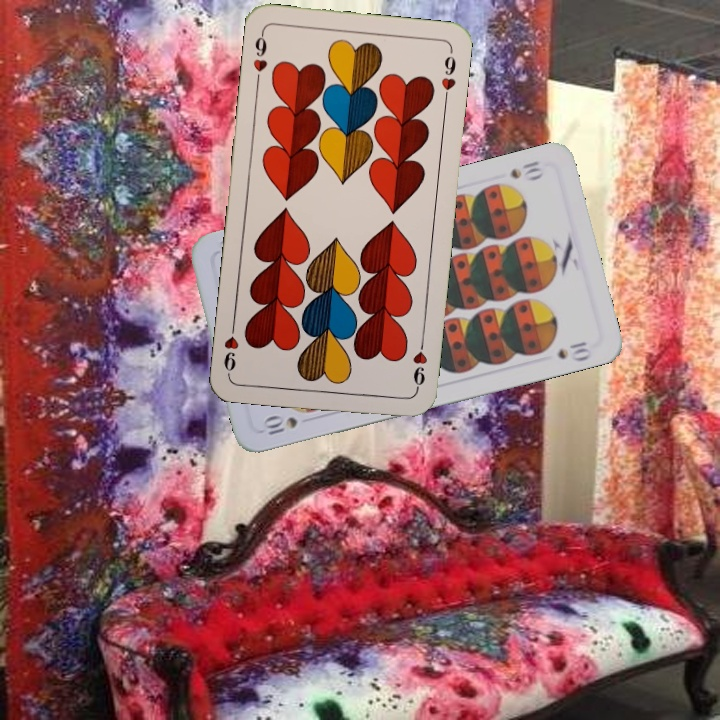H9: (249, 28, 270, 87), (409, 335, 430, 394)
S10: (259, 412, 300, 438), (506, 157, 546, 183)
